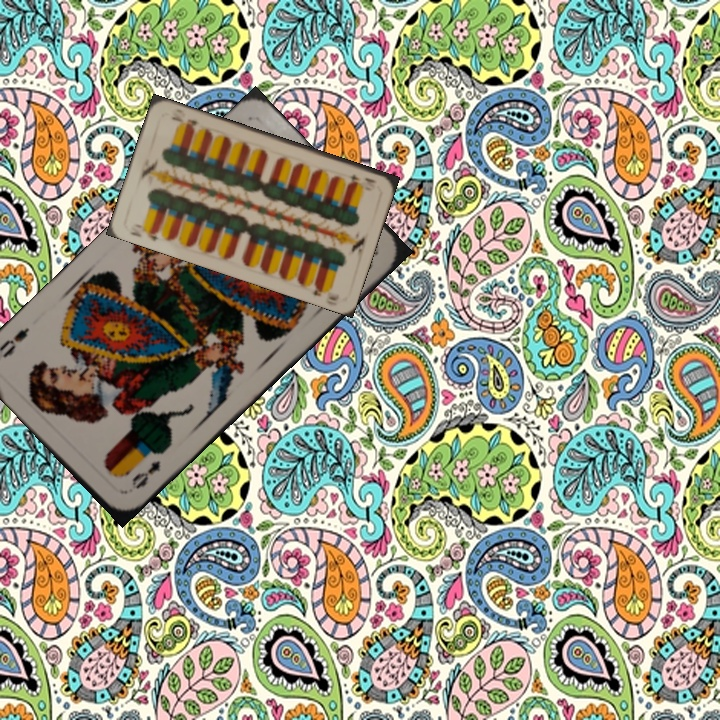E10: (125, 223, 162, 244), (341, 170, 380, 189)
EO: (127, 456, 164, 492)
